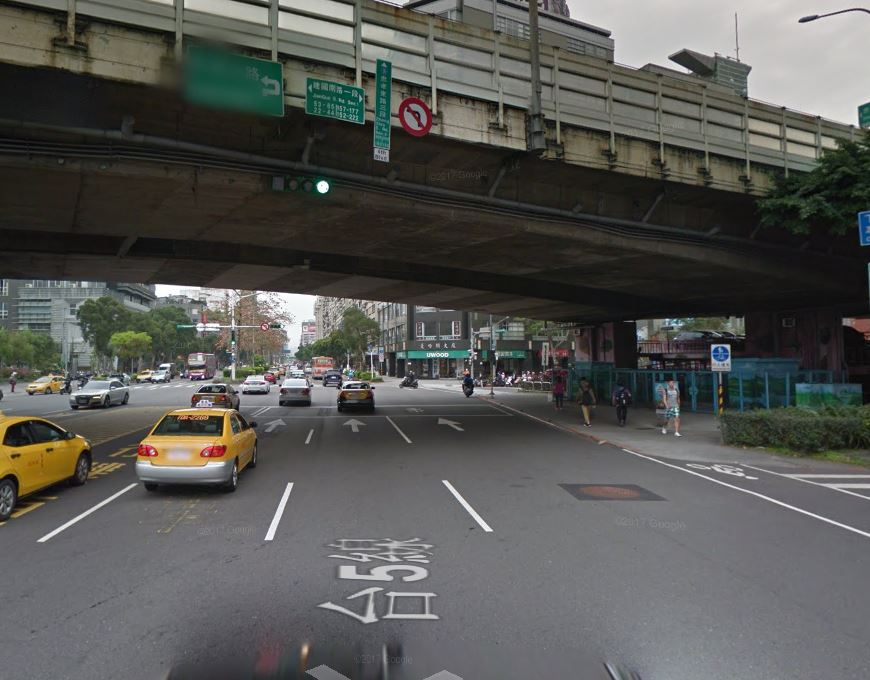No_left_turn: (398, 96, 433, 138)
Traffic_light_green: (269, 171, 332, 196)
